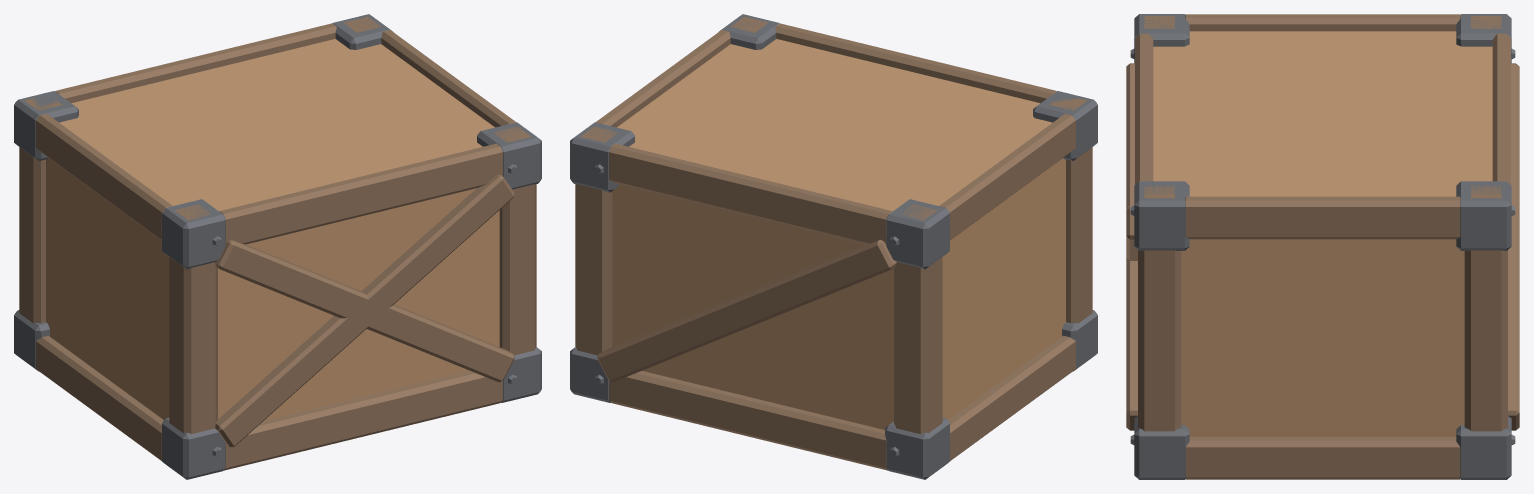
Rendered from Garage_Crate.glb.
The picture shows the model from 3 angles, left to right: view 1: azimuth 30°, elevation 25°; view 2: azimuth 150°, elevation 25°; view 3: azimuth 270°, elevation 25°; orthographic projection. The views are drawn at different scales.
Parts seen in each view (by area): view 1: Garage_Crate; view 2: Garage_Crate; view 3: Garage_Crate.
Part boxes in pixels (left/top/right/bottom): Garage_Crate: left=14, top=14, right=541, bottom=479; Garage_Crate: left=570, top=14, right=1097, bottom=479; Garage_Crate: left=1126, top=14, right=1519, bottom=479.
Bounding box in the file's own units: 0.732 × 0.5 × 0.638.
